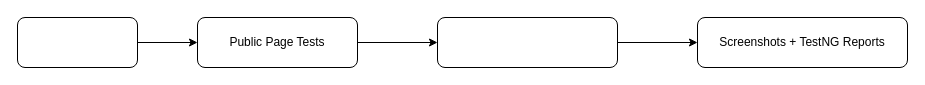
Image size: 925x85. Some labels were removed from this diagram. Each missing label, with the centre of its shape:
Optional Auth Bootstrap: [527,42]
Start Suite: [77,42]
